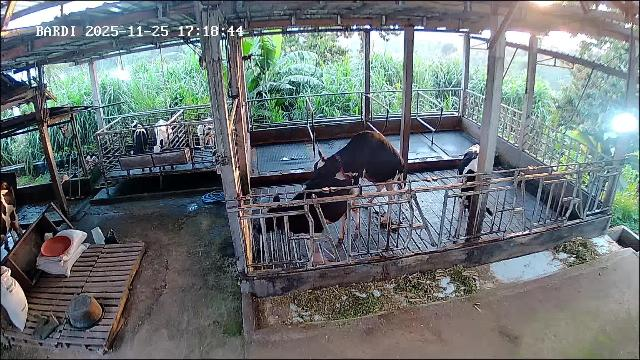mounting: (306, 130, 406, 230)
